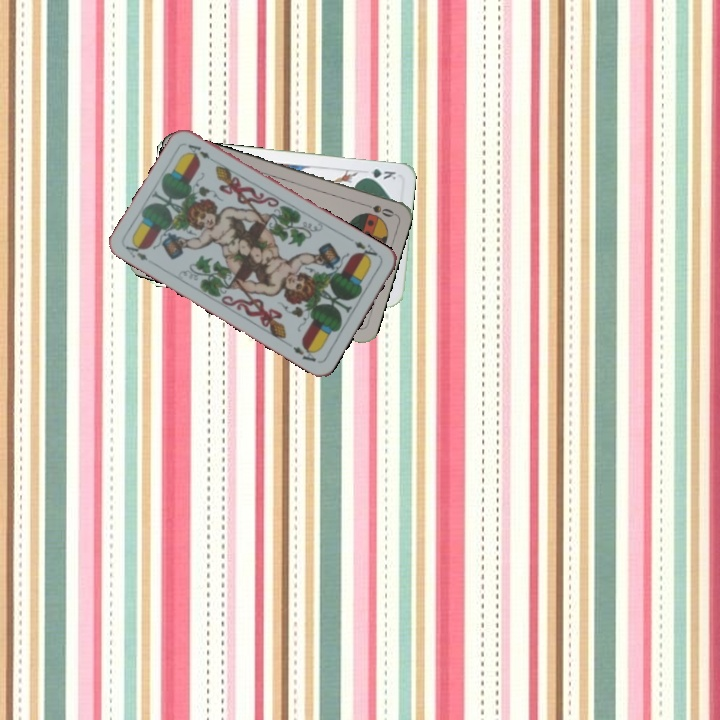EA: (350, 237, 383, 263), (121, 238, 150, 263)
GK: (359, 165, 398, 182)
SO: (357, 199, 397, 220)
